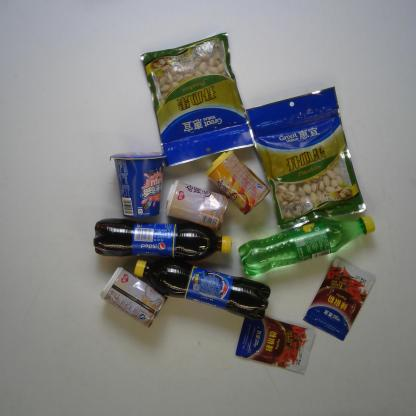Canned Food: (204, 150, 270, 216), (100, 266, 168, 329), (165, 179, 230, 232)
Dessert: (108, 150, 168, 219)
Dried Fruit: (244, 85, 367, 232), (140, 30, 256, 168)
Drink: (236, 214, 376, 277), (133, 259, 272, 321), (92, 216, 233, 262)
Seasoner: (302, 257, 378, 341), (234, 315, 317, 376)
